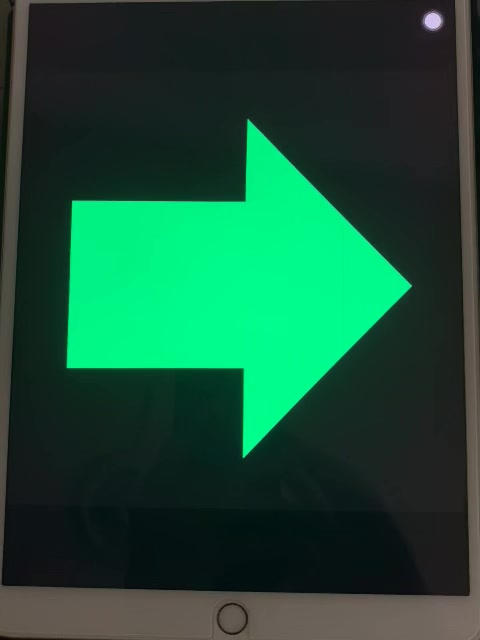right: (59, 114, 415, 465)
